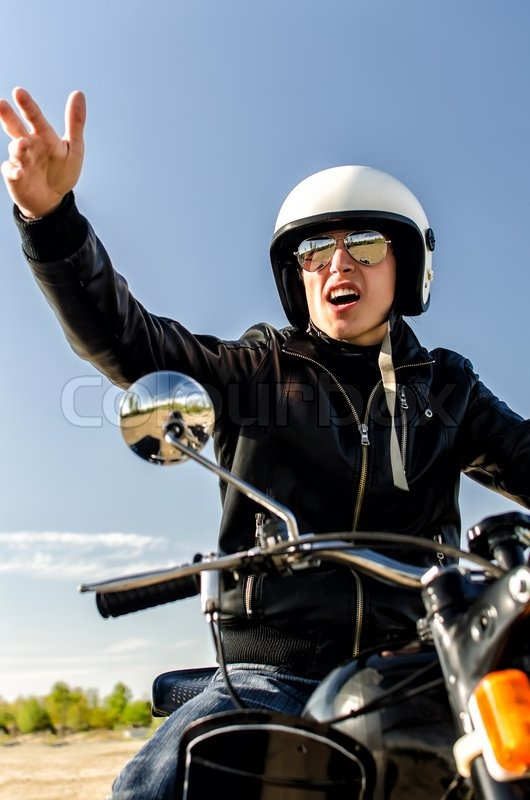helmet: (244, 142, 451, 377)
